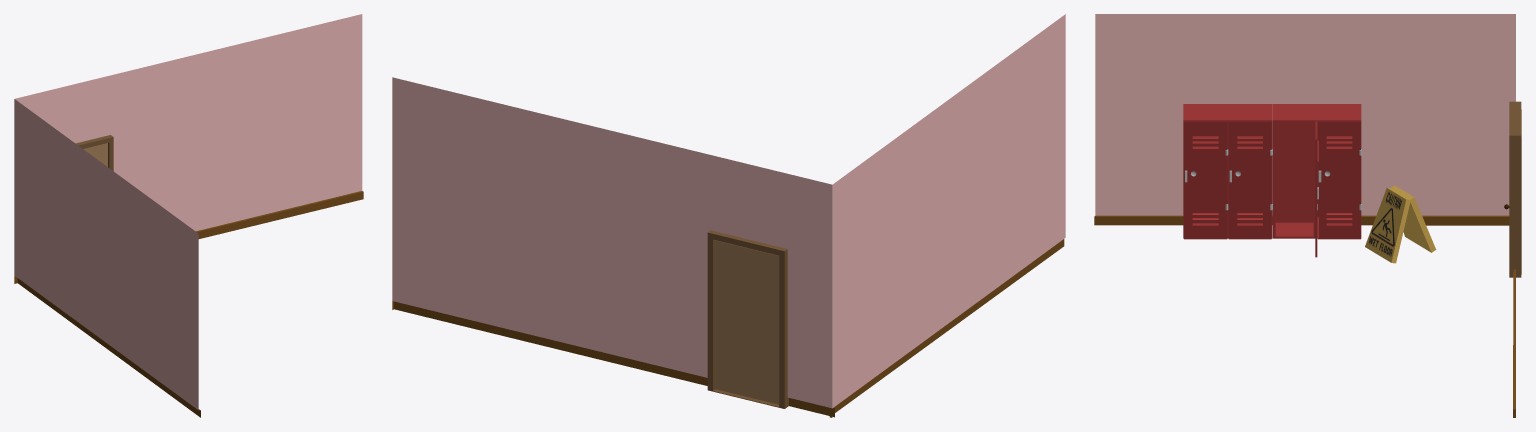
Rendered from Classroom4.fbx.
3 renders of one model, left to right at view 1: azimuth 30°, elevation 25°; view 2: azimuth 150°, elevation 25°; view 3: azimuth 270°, elevation 25°, orthographic. The views are drawn at different scales.
Visible parts, largest first — view 1: DESK2, DESK2.001, Door Out; view 2: DESK2, DESK2.001, Door Main, Door Out; view 3: DESK2.001, Cube.004, Cube.009, Door Out, DESK2.
Boxes of the visible parts, left/top/right/bottom form: DESK2: left=14, top=14, right=363, bottom=283; DESK2.001: left=14, top=99, right=200, bottom=417; Door Out: left=75, top=135, right=113, bottom=170; DESK2: left=392, top=77, right=834, bottom=417; DESK2.001: left=829, top=14, right=1065, bottom=417; Door Main: left=715, top=240, right=778, bottom=404; Door Out: left=707, top=230, right=788, bottom=408; DESK2.001: left=1094, top=14, right=1515, bottom=225; Cube.004: left=1183, top=104, right=1361, bottom=257; Cube.009: left=1365, top=185, right=1436, bottom=263; Door Out: left=1509, top=101, right=1521, bottom=277; DESK2: left=1513, top=269, right=1515, bottom=417.
Bounding box in the file's own units: 38.07 × 19.22 × 35.42.
